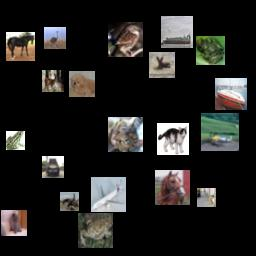airplane: (201, 113, 239, 151), (91, 177, 126, 212)
bird: (108, 22, 143, 57), (44, 27, 66, 49)
cat: (108, 117, 143, 152), (157, 123, 189, 155), (1, 210, 27, 236), (197, 188, 216, 207)
deer: (42, 70, 64, 92)
dog: (149, 52, 175, 78), (69, 71, 95, 97)
frog: (78, 213, 113, 248), (196, 36, 225, 65), (6, 131, 25, 150)
ship: (215, 78, 247, 110), (161, 16, 193, 48)
truck: (42, 156, 64, 178)
